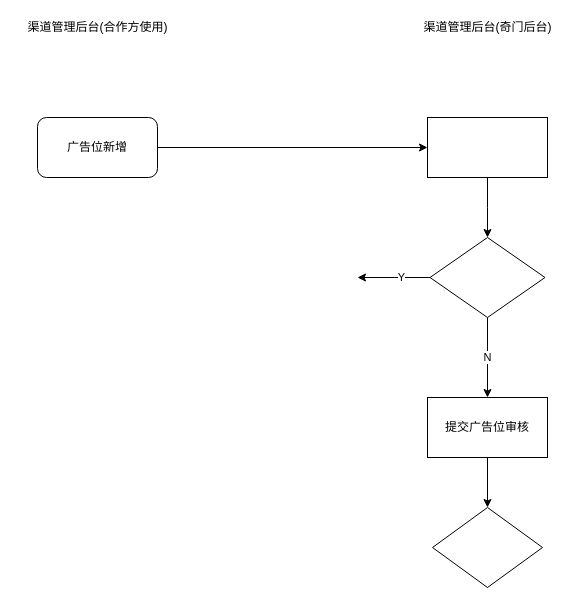
This 574x605 diagram has some shape labels left out. Each missing label, with the centre of its shape:
"是否重复广告位名称" belongs at point (487, 277).
"查询商户广告位" belongs at point (487, 147).
